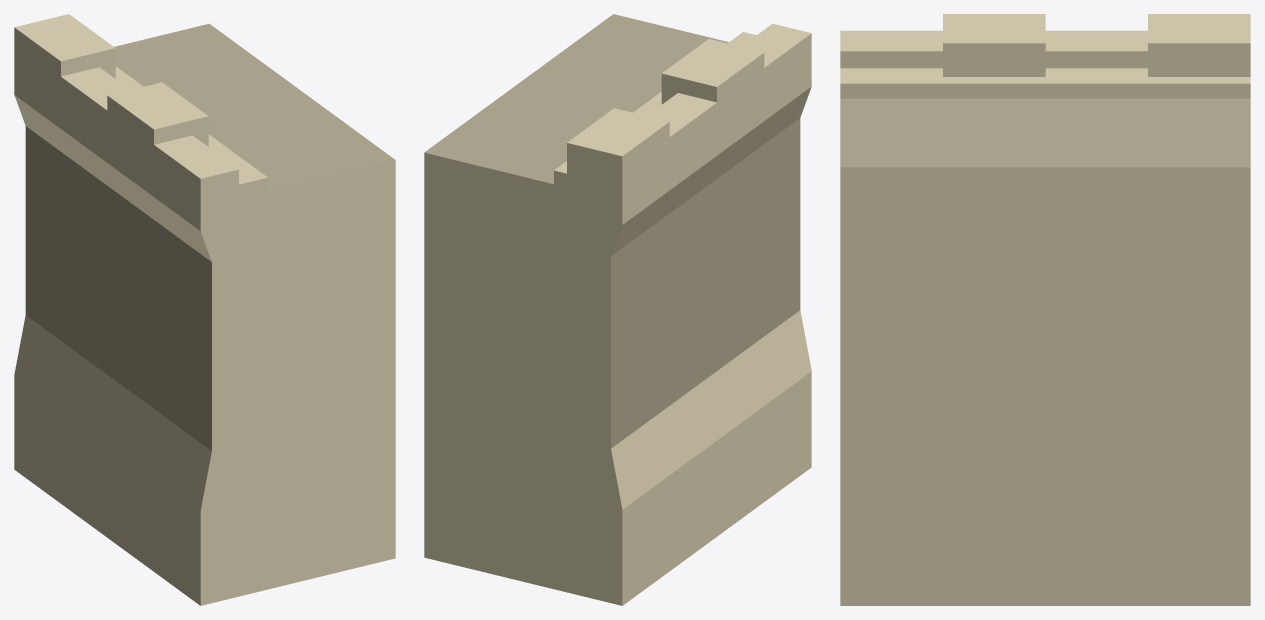
The model's file is wallHalfModular_exclusive.fbx.
3 renders of one model, left to right at view 1: azimuth 30°, elevation 25°; view 2: azimuth 150°, elevation 25°; view 3: azimuth 270°, elevation 25°, orthographic. The views are drawn at different scales.
Visible parts, largest first — view 1: wallHalfModular_exclusive; view 2: wallHalfModular_exclusive; view 3: wallHalfModular_exclusive.
Boxes of the visible parts, x1,y1,x2,y2 form: wallHalfModular_exclusive: (14,14,395,605); wallHalfModular_exclusive: (424,14,811,605); wallHalfModular_exclusive: (840,14,1250,605).
Size of the model in its own units: 6.05 by 13.1 by 10.
